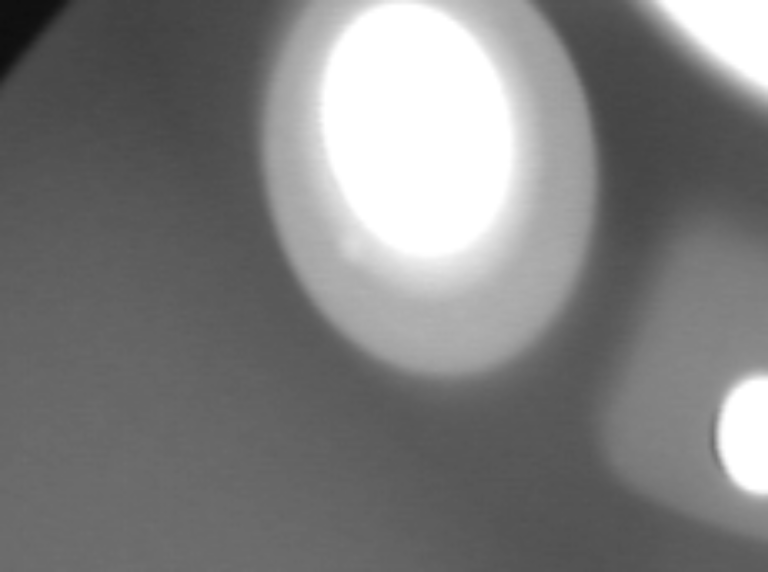defect: (341, 233, 374, 286)
